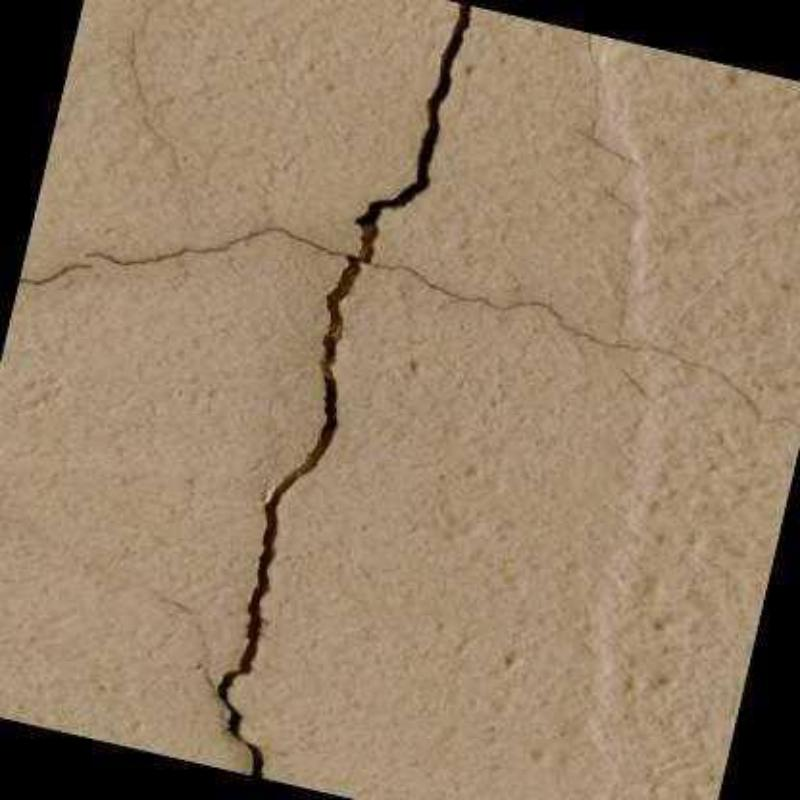crack: (219, 2, 471, 779), (369, 262, 769, 425), (83, 227, 350, 265), (19, 262, 98, 287)
